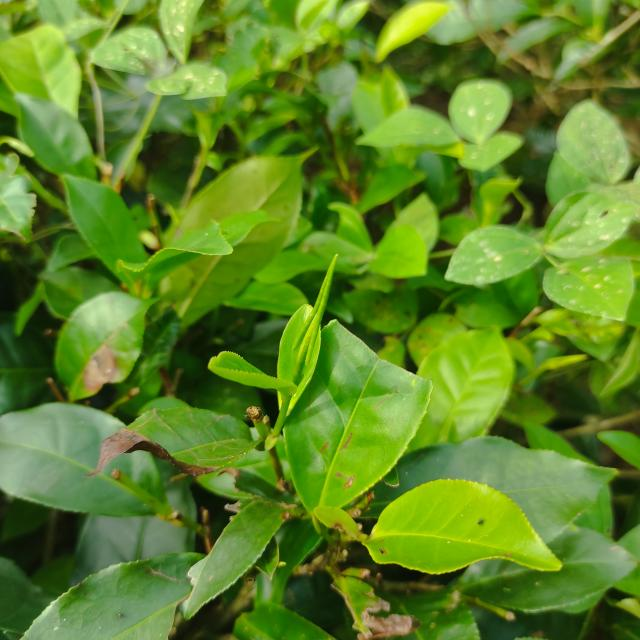unopened_leaf: (284, 245, 348, 392)
